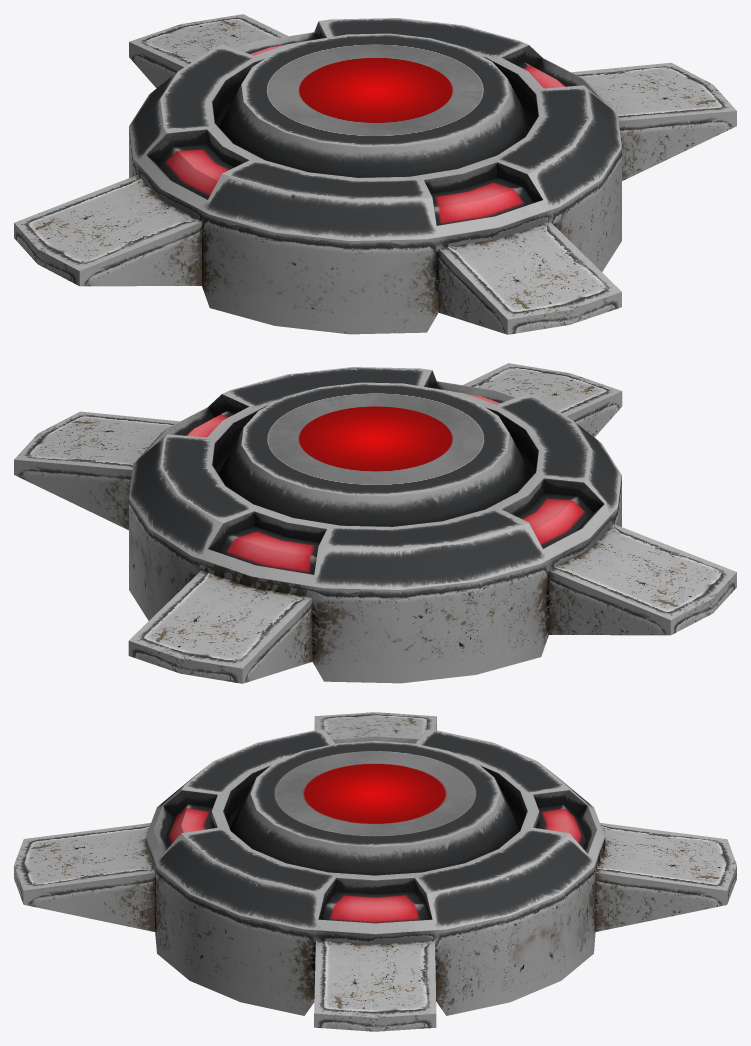
The model's file is landmine.Fbx.
3 views of the same model, one above another, from view 1: azimuth 30°, elevation 25°; view 2: azimuth 150°, elevation 25°; view 3: azimuth 270°, elevation 25° (orthographic). The views are drawn at different scales.
Parts seen in each view (by area): view 1: polySurface1; view 2: polySurface1; view 3: polySurface1.
Boxes of the visible parts, x1=… form: polySurface1: x1=14, y1=14, x2=736, y2=334; polySurface1: x1=14, y1=363, x2=736, y2=683; polySurface1: x1=14, y1=712, x2=736, y2=1031.
Bounding box in the file's own units: 18.88 × 3.74 × 18.88.
